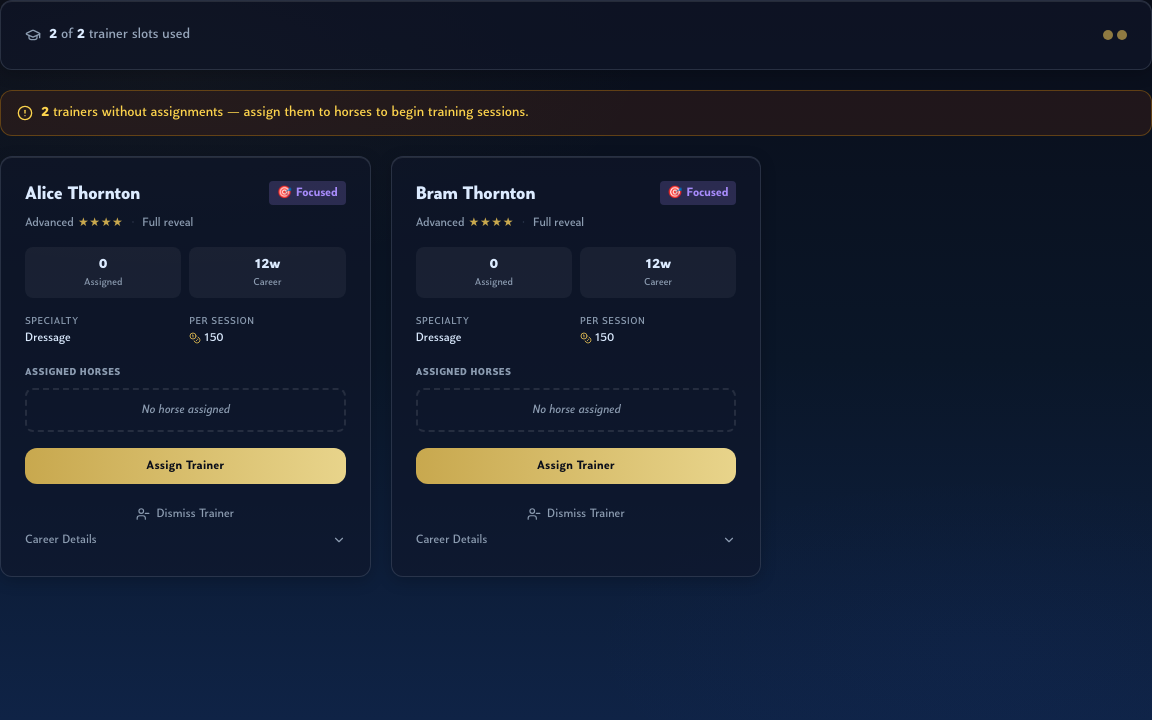
MyTrainersDashboard — dismiss a trainer (Equoria-oey96.71) › dismisses through the confirm dialog: DELETE once, and the trainer leaves the roster
The width and height of the screenshot is (1152, 720).
Click the button "Dismiss Trainer" below "Alice".
click(185, 514)  # box 25,500 -> 346,528
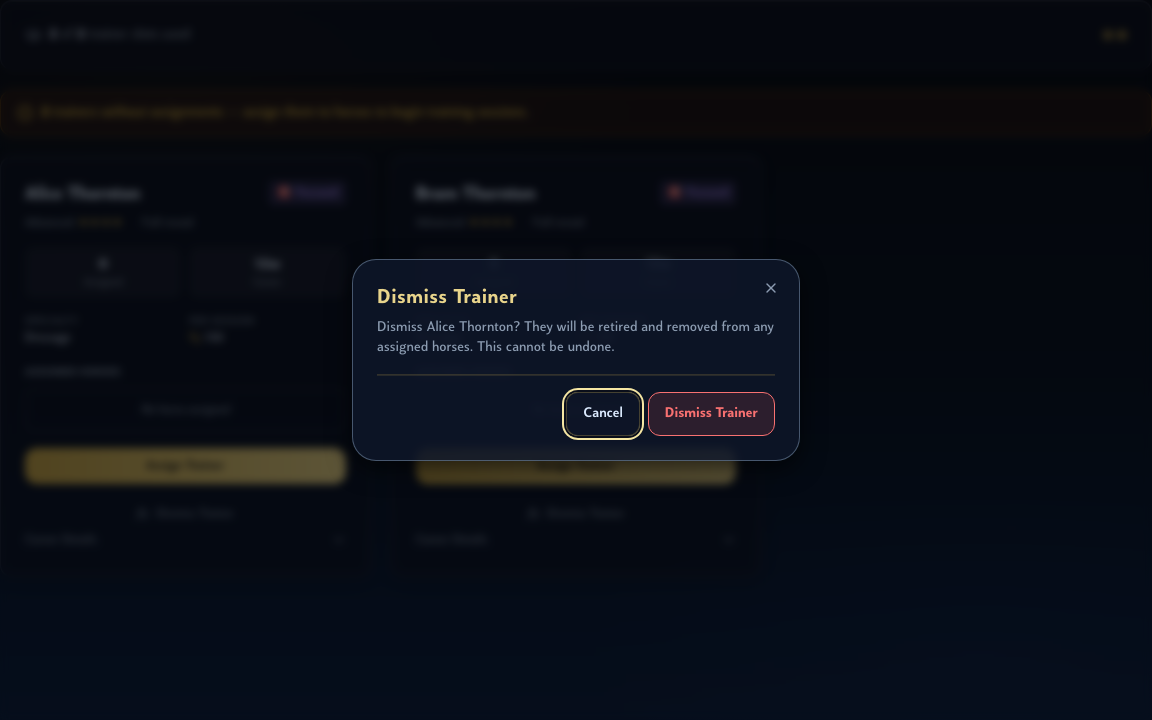
Click the button "Dismiss Trainer".
click(711, 414)  # box 648,392 -> 775,436
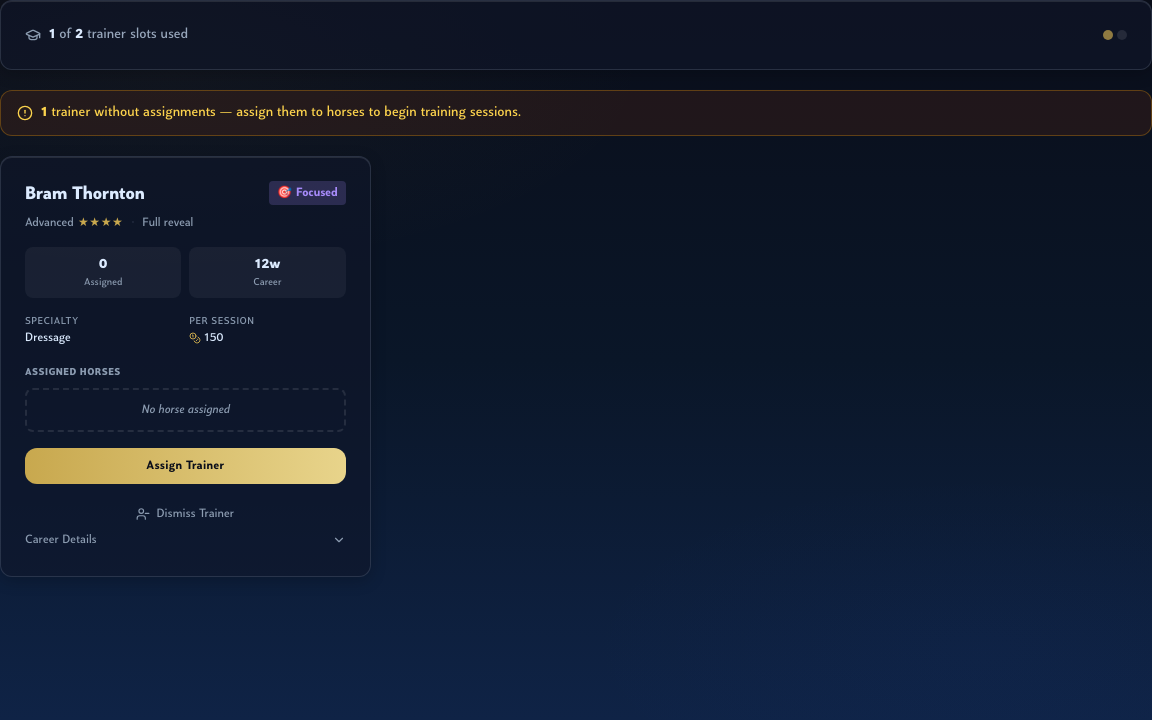
Expected: the element with test id "trainer-card-11" is shown, 0,156 -> 371,577
Expected: the element with test id "trainer-card-10" is gone
